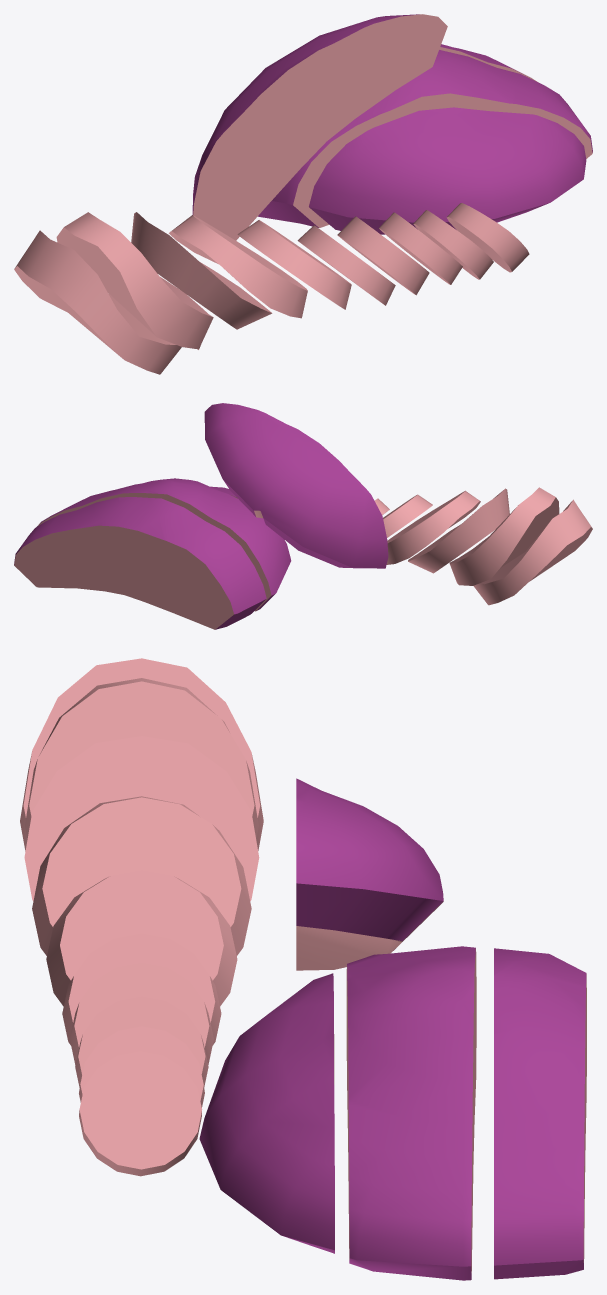
File: CogumelosCozinhaFinal.fbx
3 views of the same model, one above another, from view 1: azimuth 30°, elevation 25°; view 2: azimuth 150°, elevation 25°; view 3: azimuth 270°, elevation 25° (orthographic). The views are drawn at different scales.
Visible parts, largest first — view 1: Sphere.015; view 2: Sphere.015; view 3: Sphere.015.
Boxes of the visible parts, box(x1,y1,x2,y2) form: Sphere.015: box(14, 14, 592, 374); Sphere.015: box(14, 403, 592, 629); Sphere.015: box(20, 658, 586, 1280).
Bounding box in the file's own units: 115 × 39.39 × 60.39.
